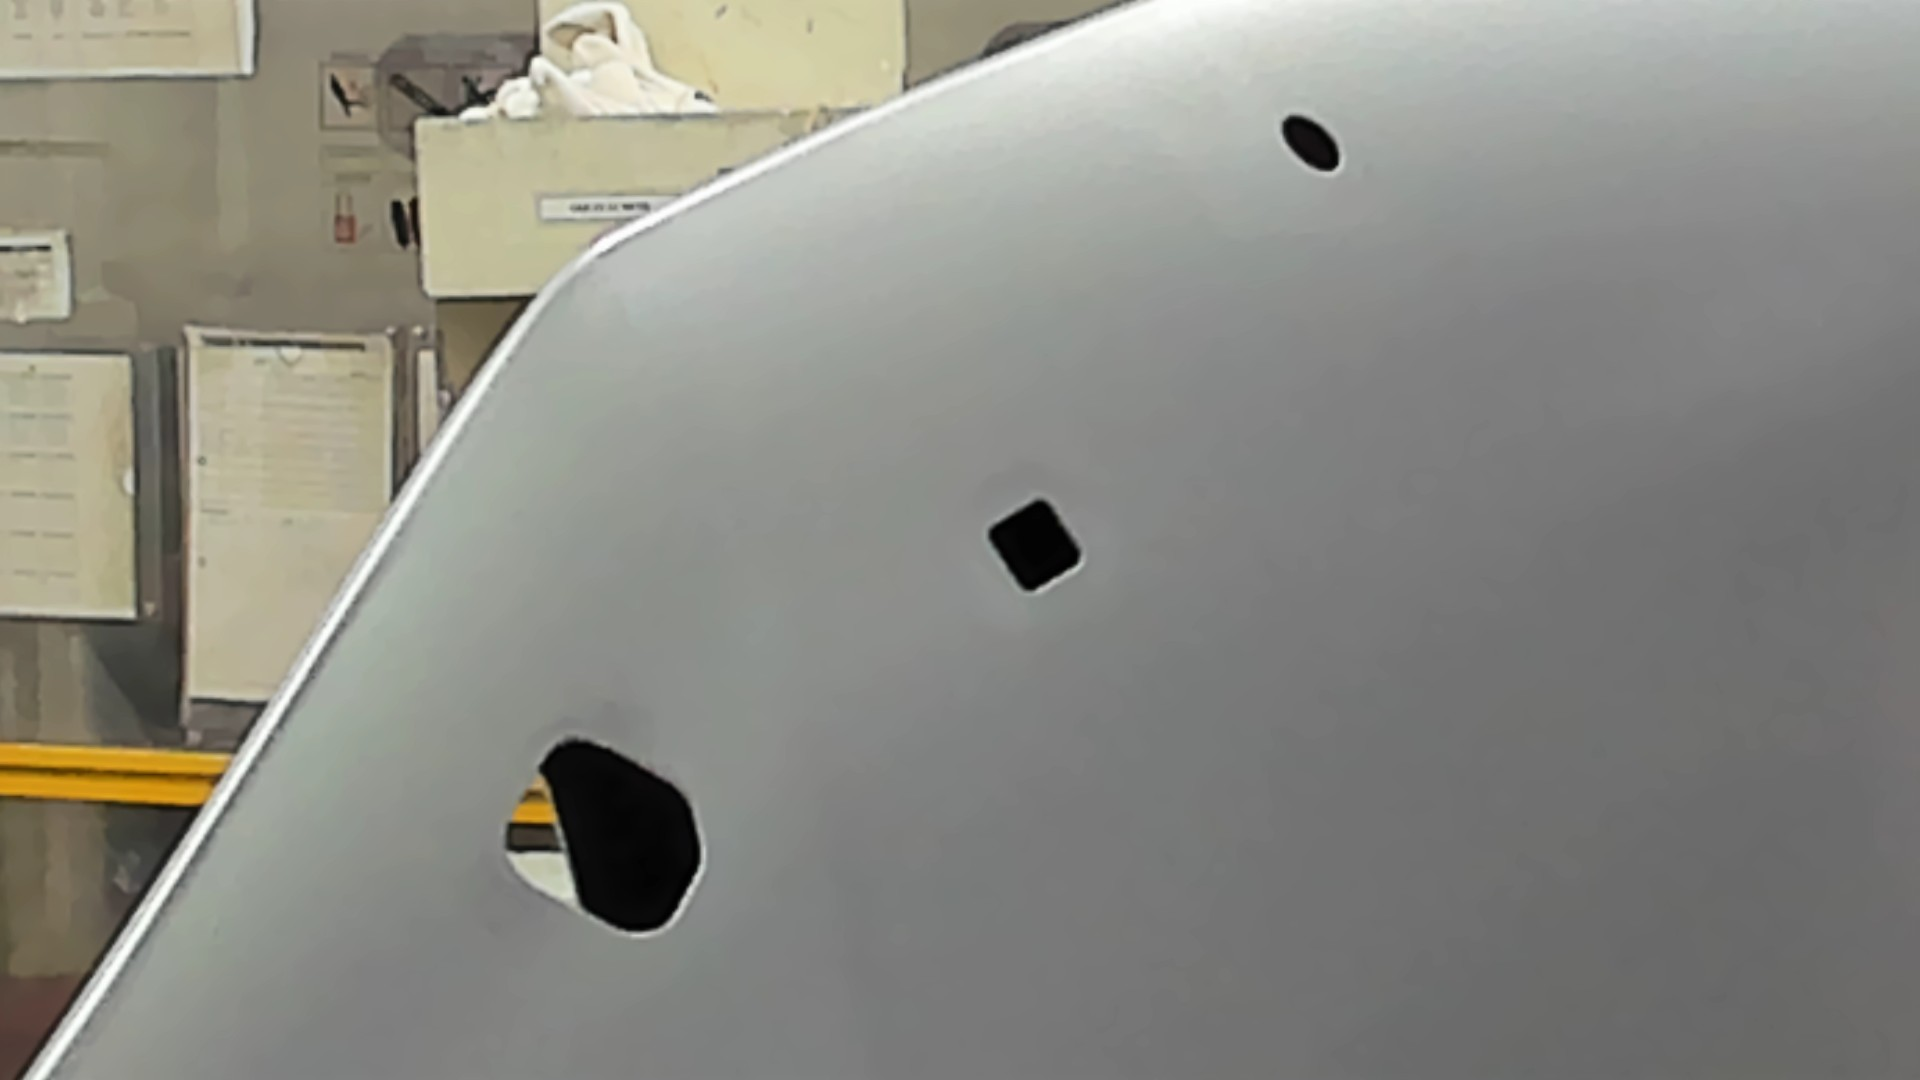chico: (1276, 109, 1345, 175)
grande: (502, 733, 705, 942)
mediano: (986, 493, 1087, 597)
